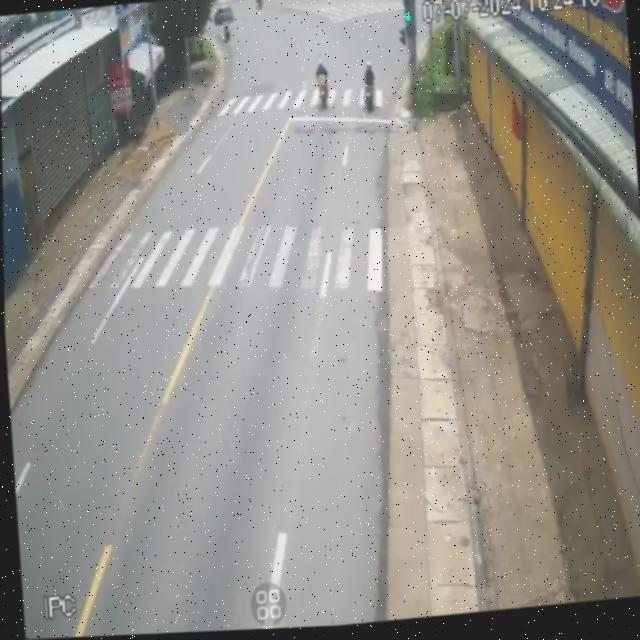Green: (400, 0, 417, 33)
